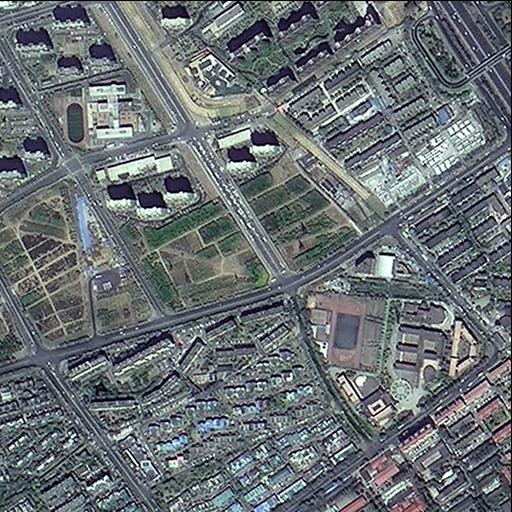school: (293, 228, 500, 444), (39, 67, 162, 154)
